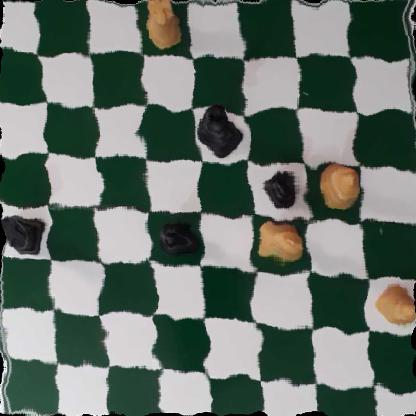black-king: (191, 107, 242, 154)
black-pawn: (260, 167, 304, 210), (158, 216, 196, 257)
black-rook: (0, 211, 48, 256)
white-bishop: (313, 165, 362, 212)
white-king: (259, 216, 309, 266)
white-pawn: (379, 283, 416, 328)
white-rook: (140, 0, 185, 48)
